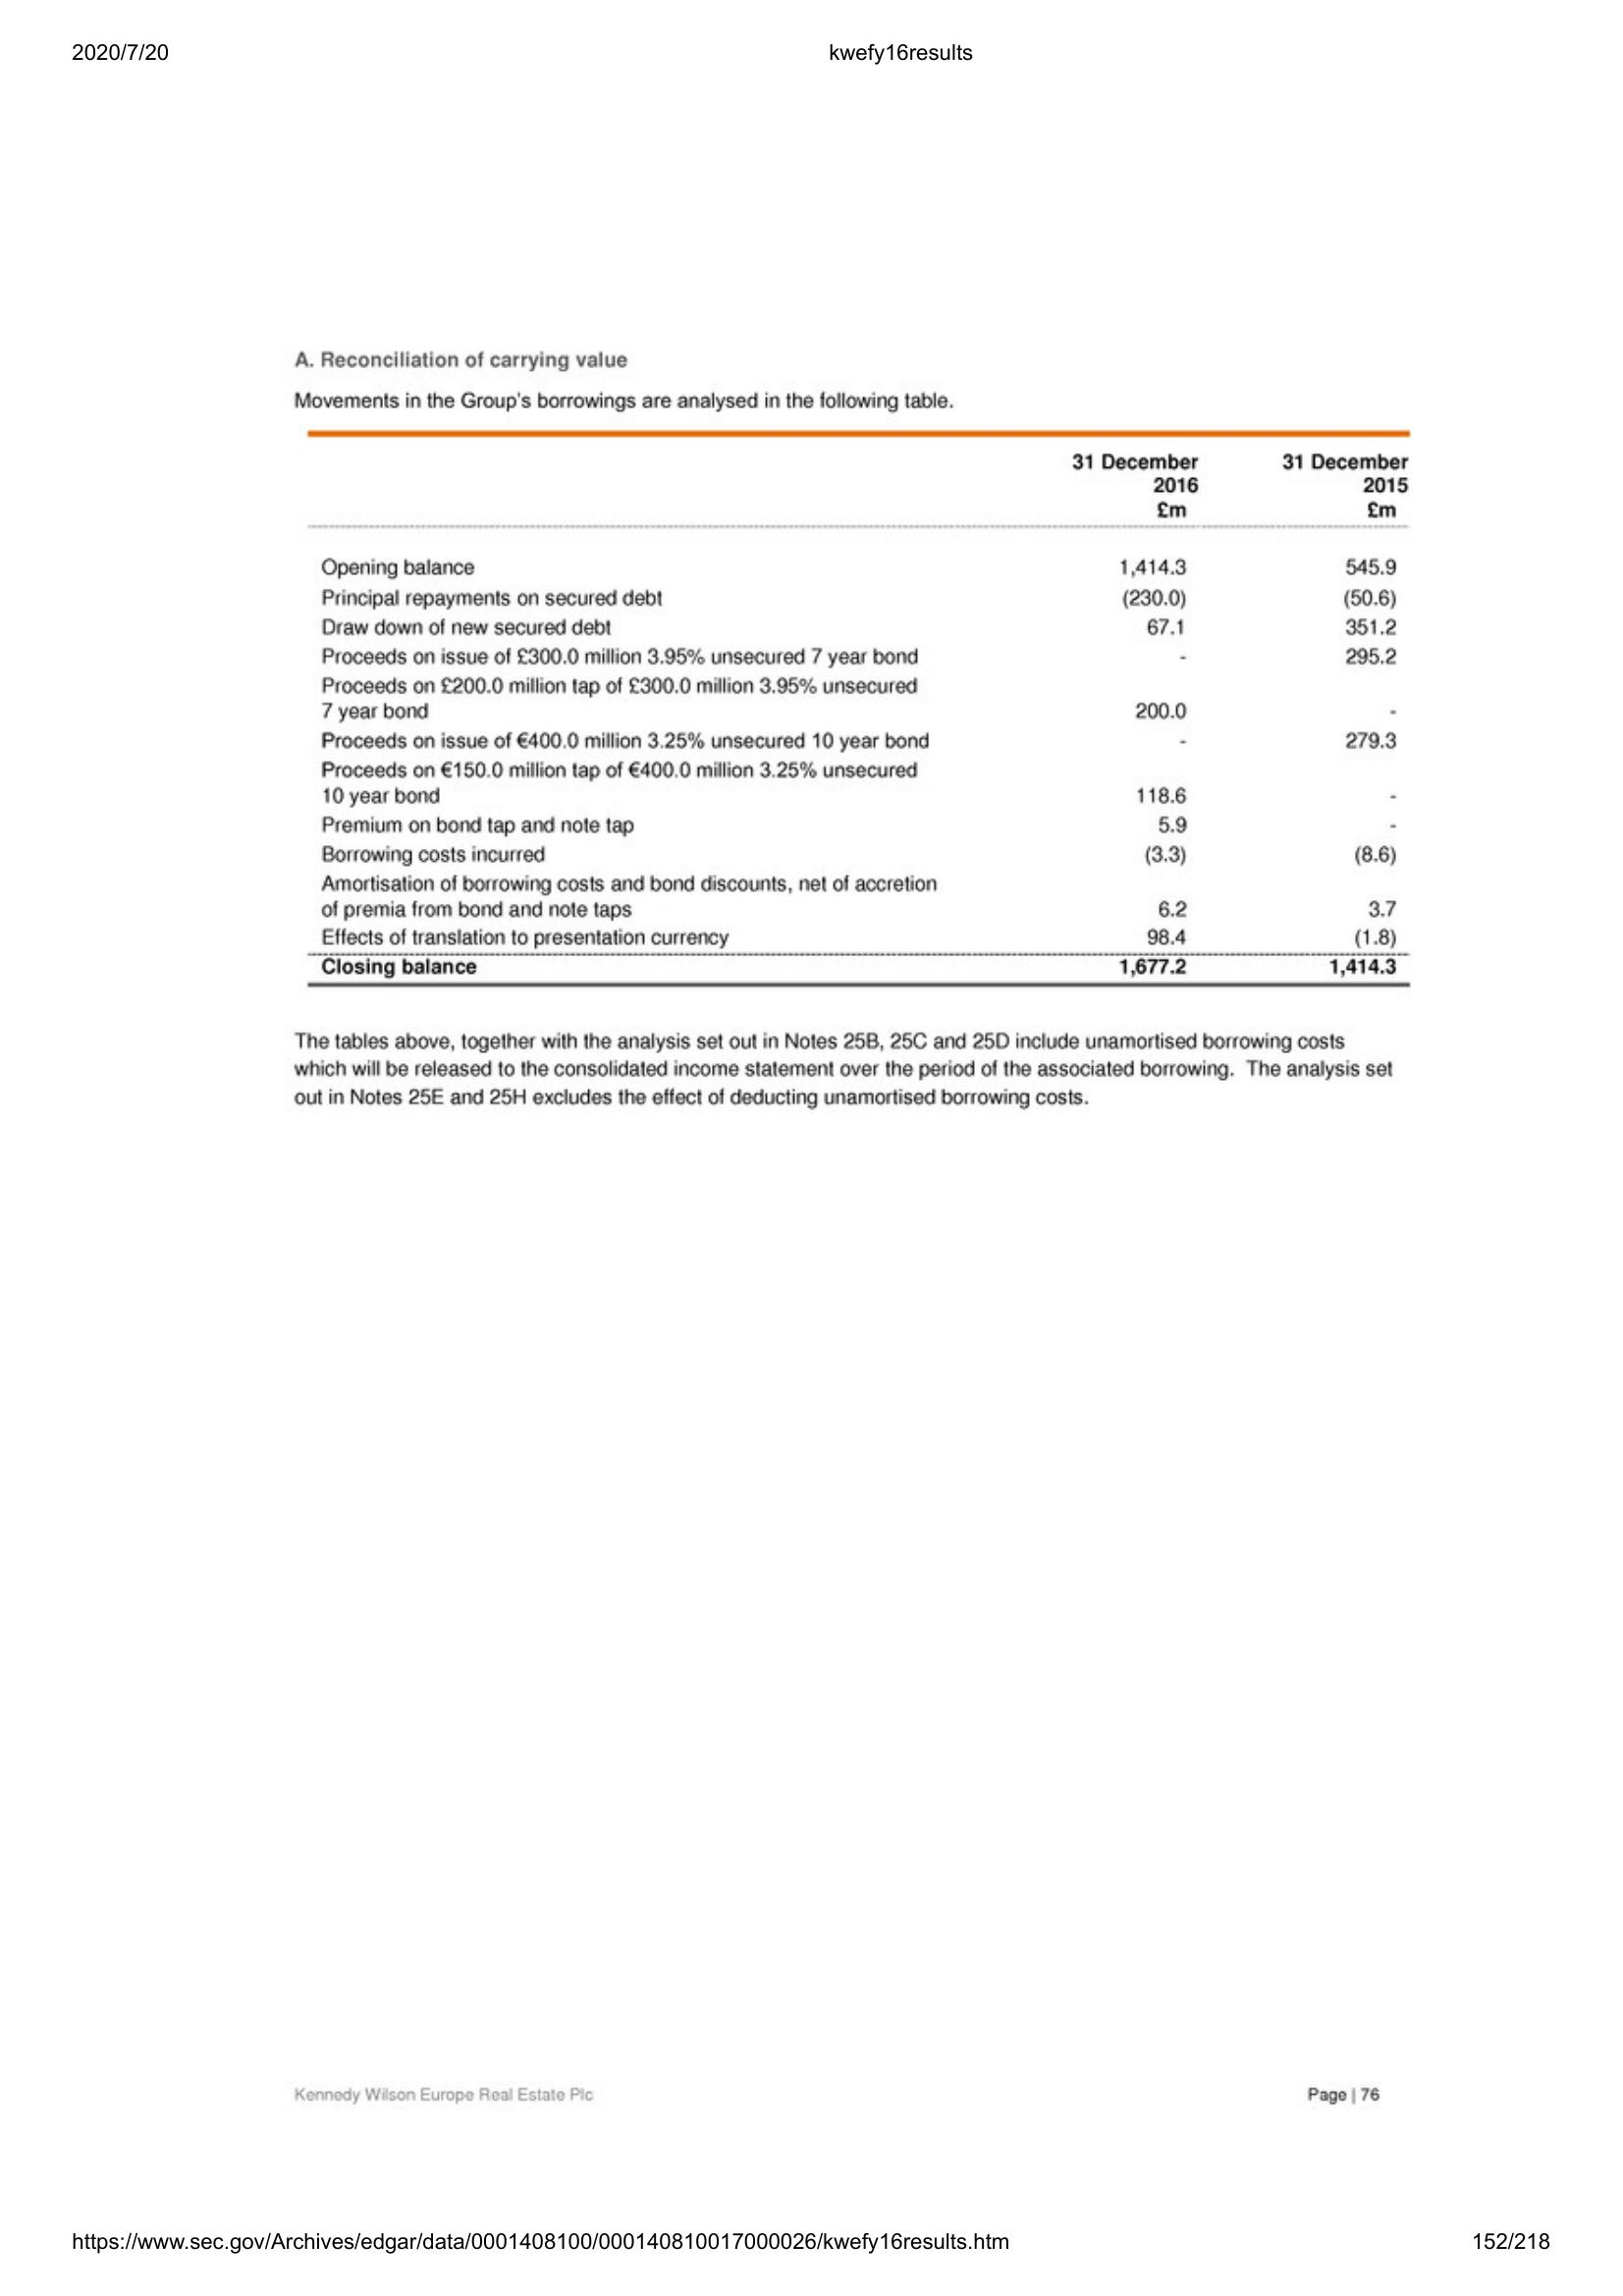table: (304, 425, 1417, 997)
